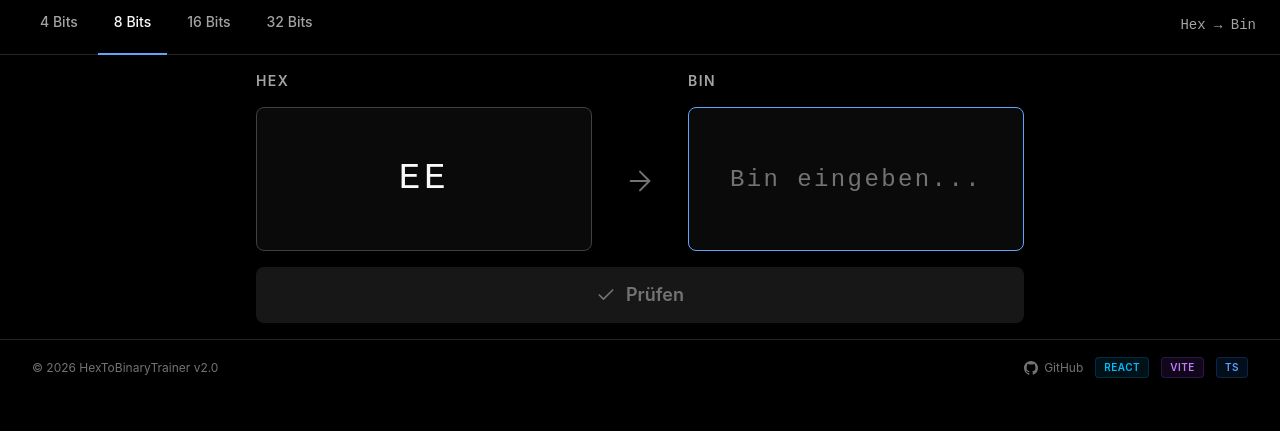
Scenario: unlock gating (US-39) › server authority on a 403 (AC-4) › refreshes the profile and shows the hint instead of dead-ending
The width and height of the screenshot is (1280, 431).
Type "10000111" into the field at (856, 179), box x1=713 y1=162 x2=999 y2=196
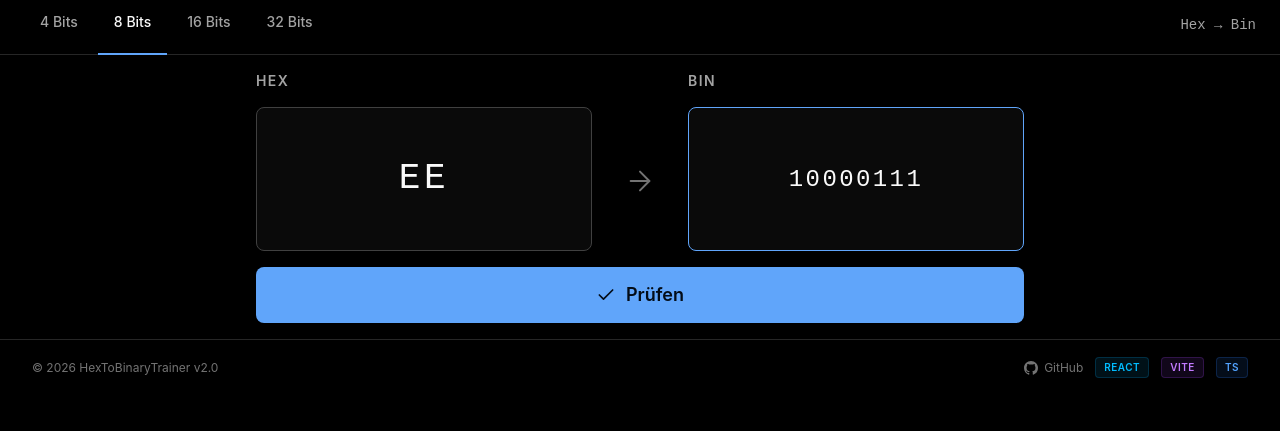
Click the button with aria-label "check answer" at (640, 295), box x1=256 y1=267 x2=1024 y2=323
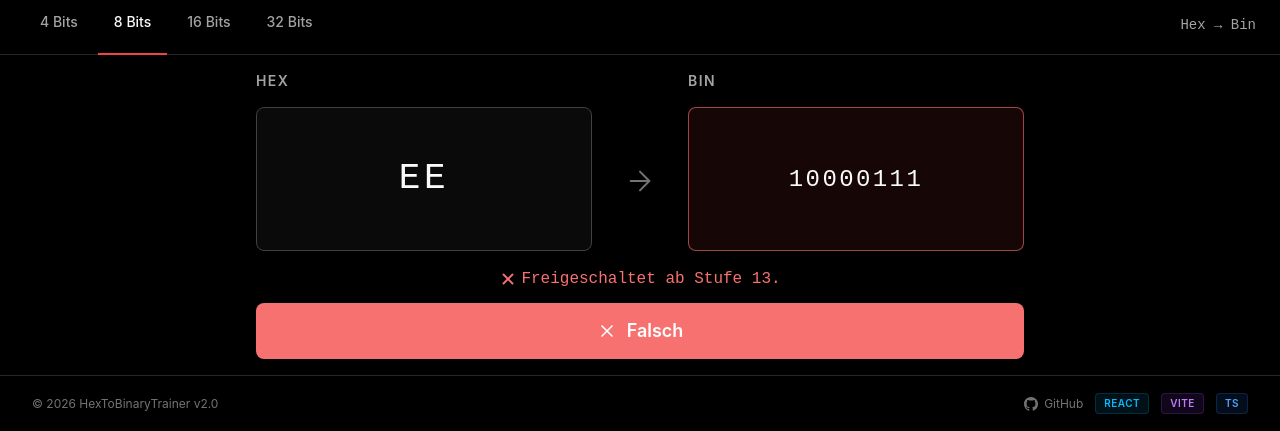
Expected: the message reads "Freigeschaltet ab Stufe 13.", x1=521 y1=270 x2=781 y2=288
